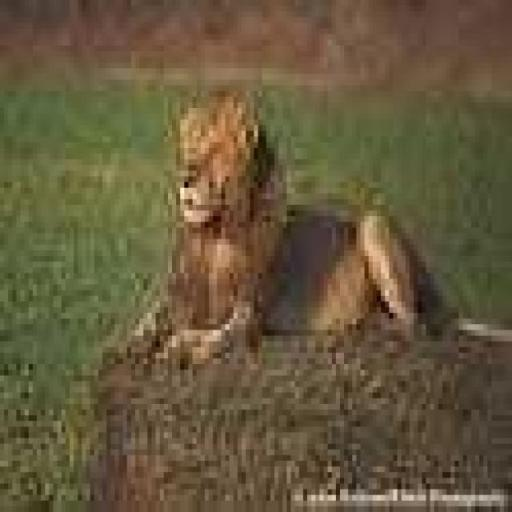Lion: (82, 86, 508, 506)
